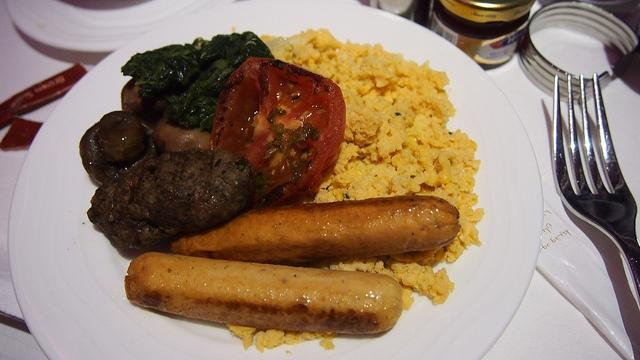mushroom: (79, 111, 157, 186), (152, 108, 211, 154), (122, 78, 142, 116)
tomato: (208, 56, 346, 208)
